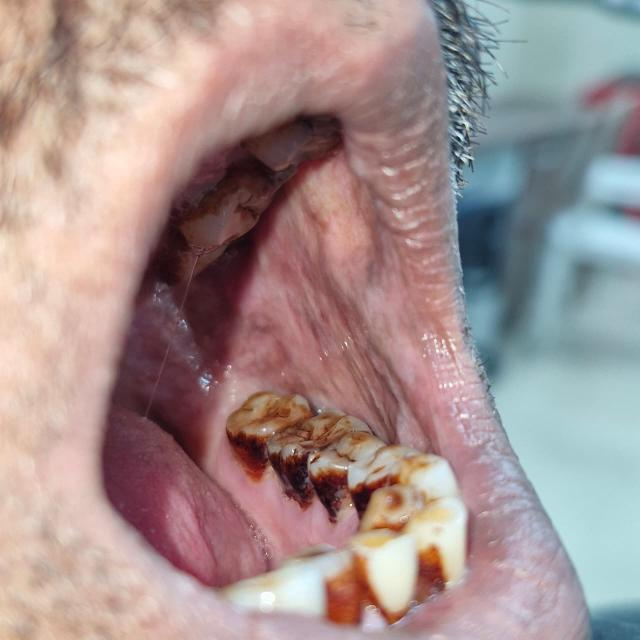leukoplakia-like-detection: (186, 149, 425, 435)
processing_area: (119, 157, 444, 582)
